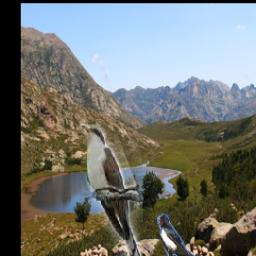Cuckoo: (80, 124, 144, 256)
Swallow: (158, 215, 215, 256)
